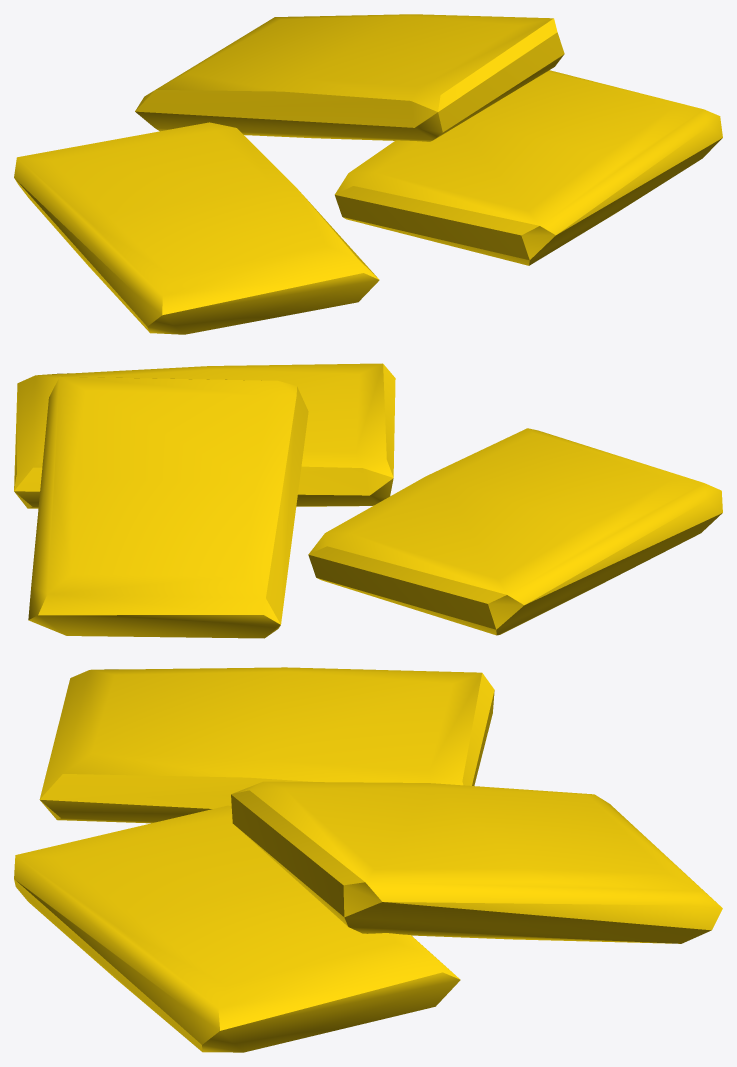
File: single_snacks_kaassoufle.fbx
3 views of the same model, one above another, from view 1: azimuth 30°, elevation 25°; view 2: azimuth 150°, elevation 25°; view 3: azimuth 270°, elevation 25° (orthographic). The views are drawn at different scales.
Visible parts, largest first — view 1: SingleKaassoufle_model; view 2: SingleKaassoufle_model; view 3: SingleKaassoufle_model.
Part boxes in pixels (x1,y1,x2,y2): SingleKaassoufle_model: [14, 14, 722, 334]; SingleKaassoufle_model: [14, 363, 722, 638]; SingleKaassoufle_model: [14, 667, 722, 1052].
Size of the model in its own units: 19.14 by 22.83 by 4.01.
